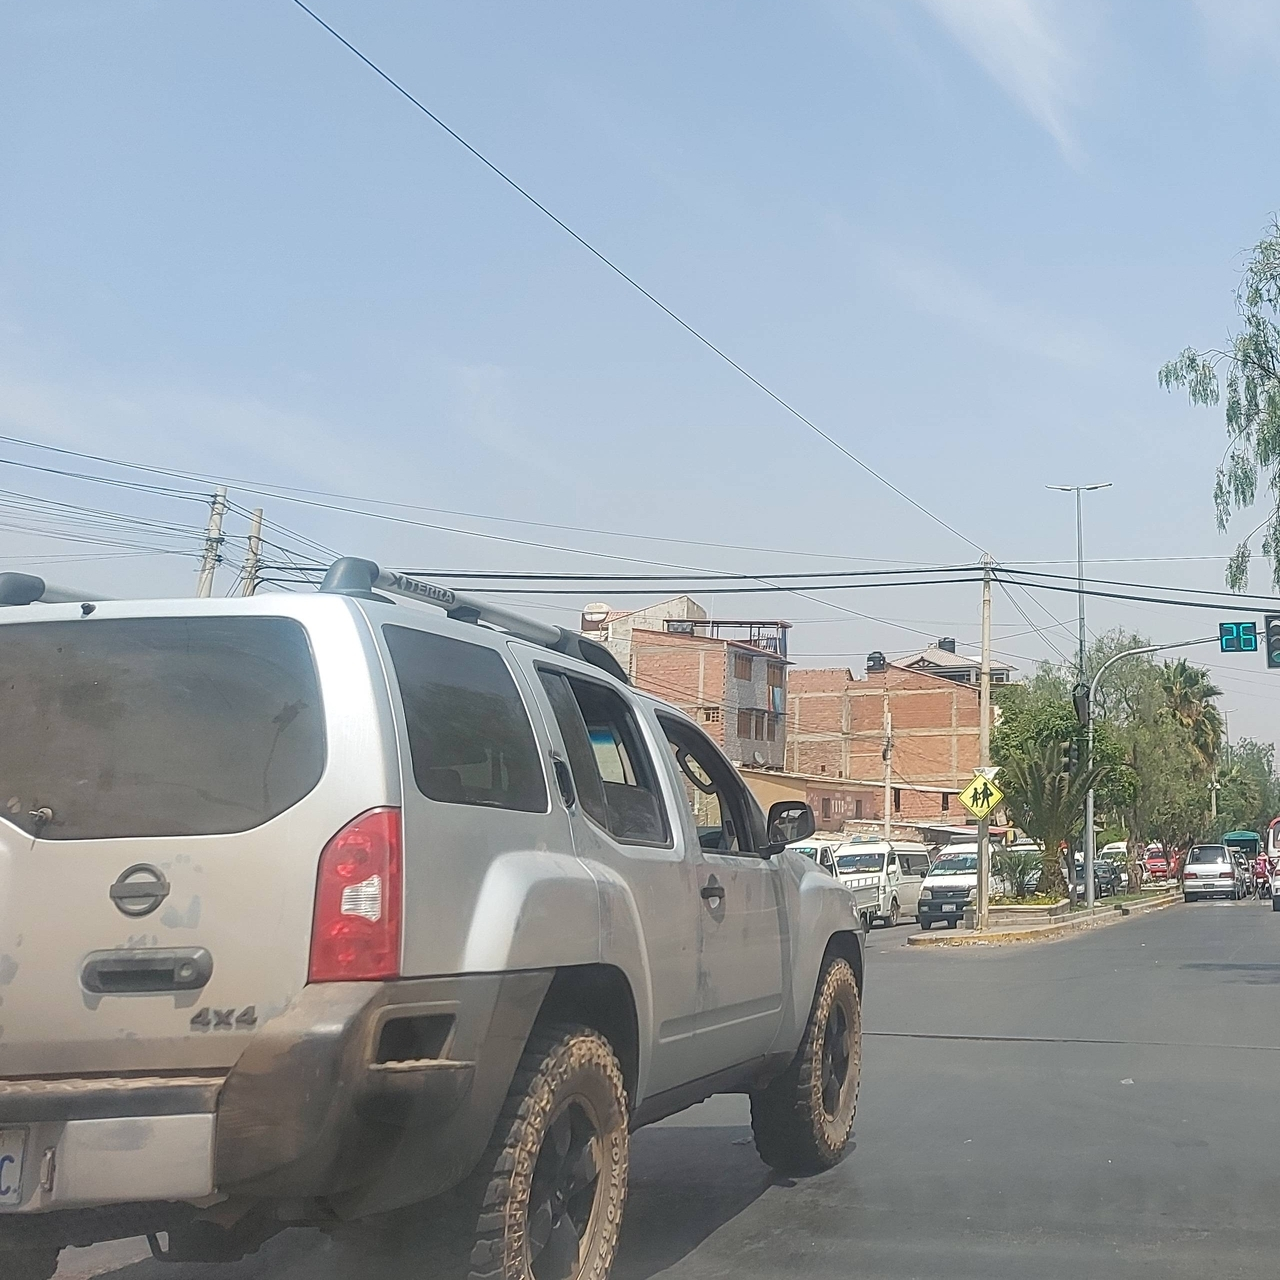zona-escolar: (962, 774, 1005, 817)
